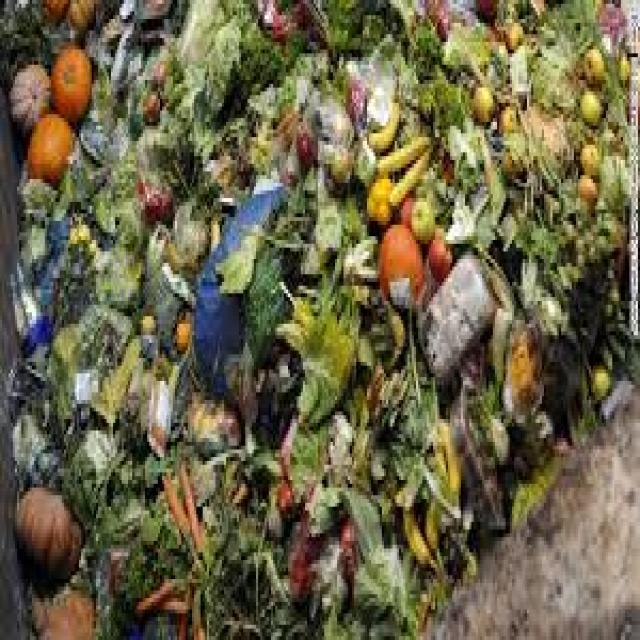food_waste: (65, 20, 472, 599), (24, 35, 609, 397)
